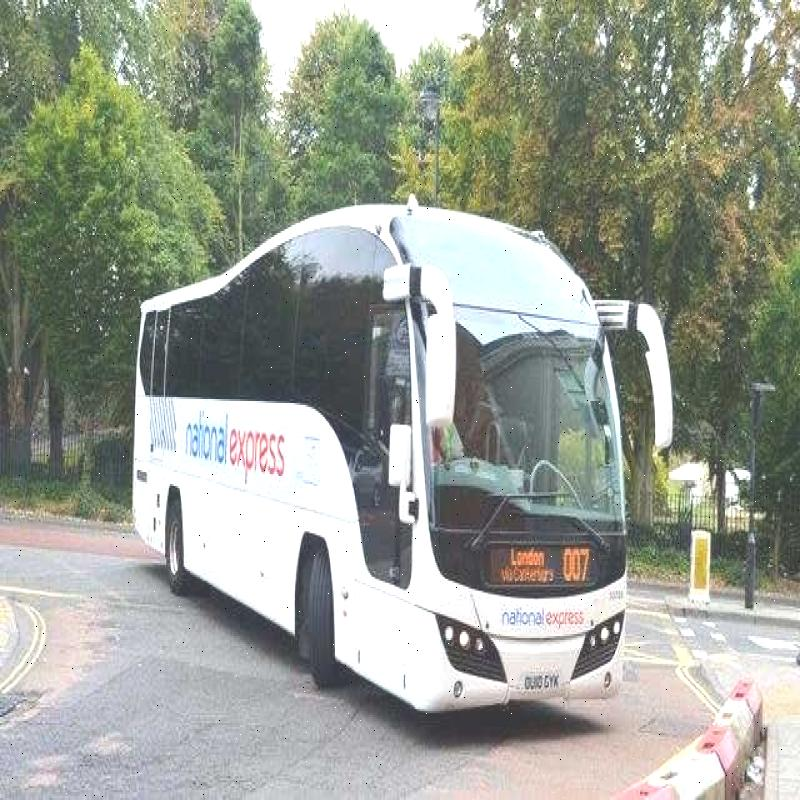bus: (130, 198, 741, 750)
